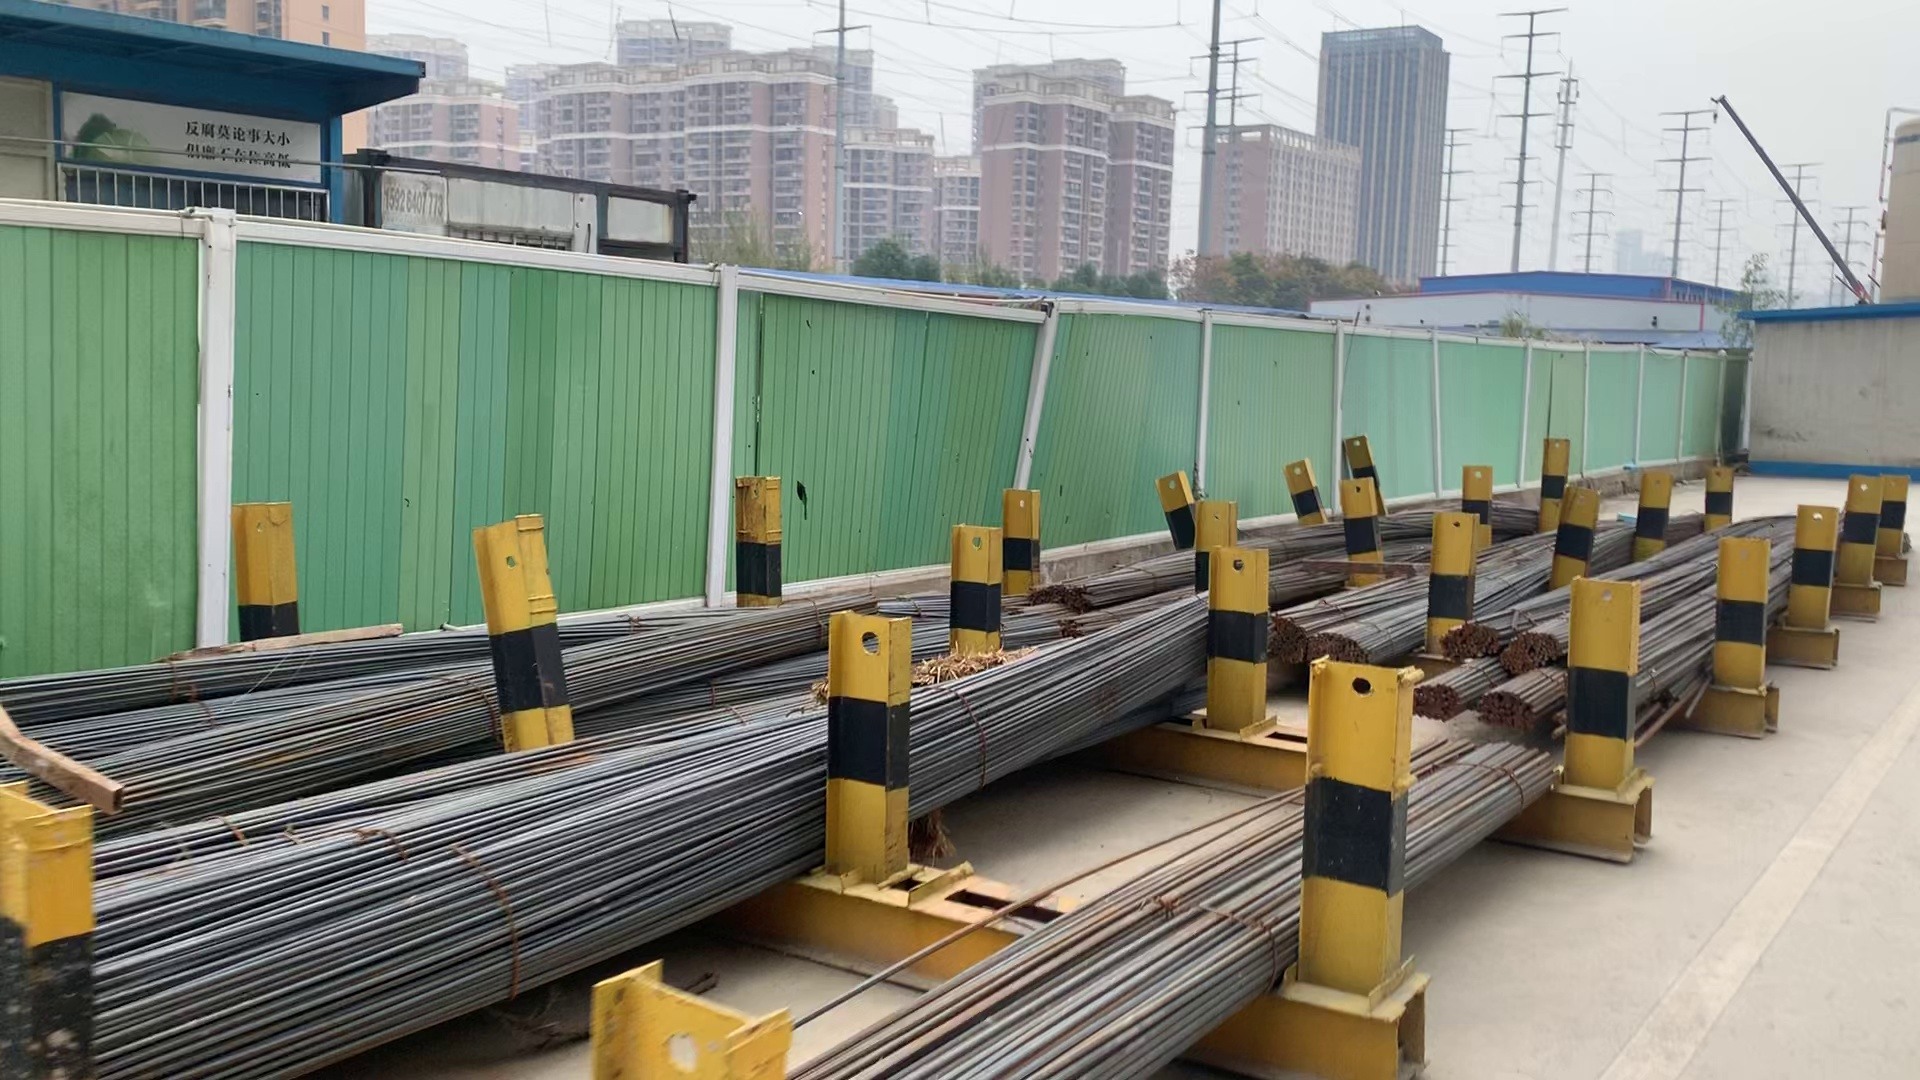rebar: (1476, 684, 1538, 731), (1304, 630, 1367, 669), (1435, 620, 1495, 659), (1416, 680, 1470, 723), (1261, 615, 1302, 665), (1507, 637, 1561, 673)
